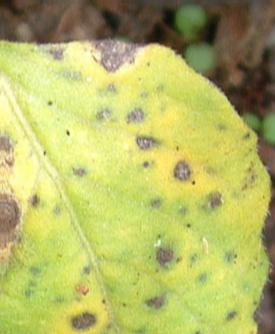Tomato Early blight leaf: (0, 13, 269, 334)
